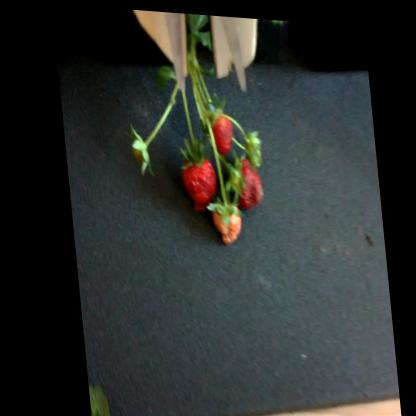ripe: (198, 103, 239, 166), (172, 149, 214, 206), (222, 151, 262, 209)
unripe: (206, 200, 250, 245)
